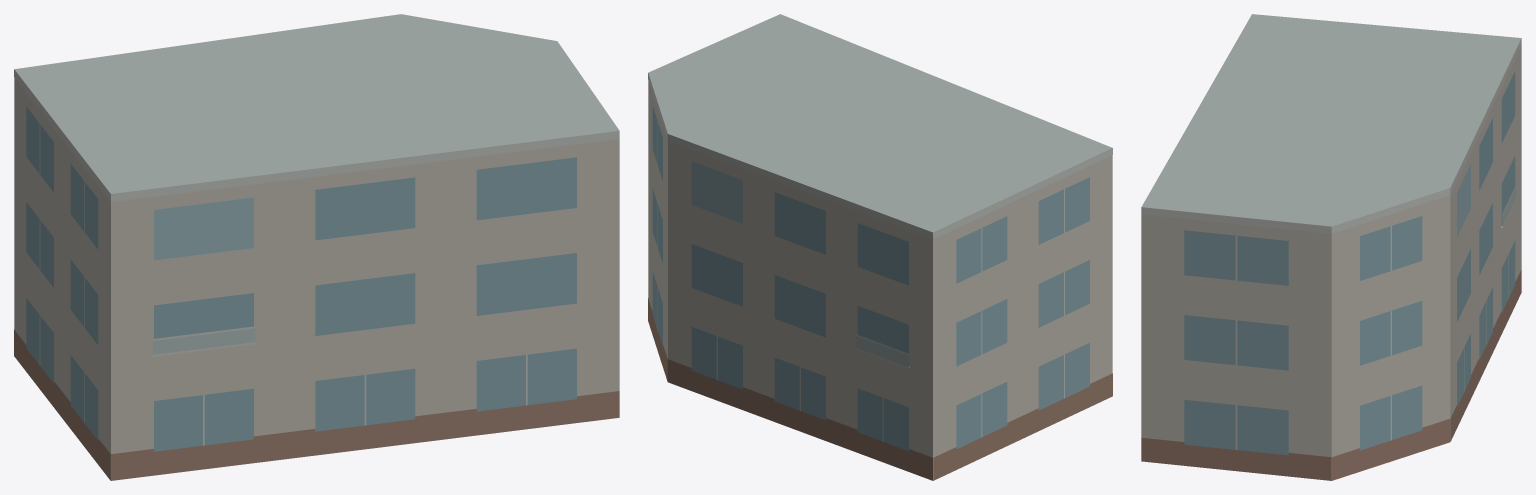
Rendered from survey-upis-32916581.glb.
3 views of the same model, side by side, from view 1: azimuth 30°, elevation 25°; view 2: azimuth 150°, elevation 25°; view 3: azimuth 270°, elevation 25° (orthographic). The views are drawn at different scales.
Parts seen in each view (by area): view 1: survey-upis-32916581.tmp; view 2: survey-upis-32916581.tmp; view 3: survey-upis-32916581.tmp.
Part boxes in pixels (left/top/right/bottom): survey-upis-32916581.tmp: left=14, top=14, right=619, bottom=480; survey-upis-32916581.tmp: left=648, top=14, right=1112, bottom=480; survey-upis-32916581.tmp: left=1141, top=14, right=1521, bottom=480.
Size of the model in its own units: 15.61 by 8.7 by 11.8.
